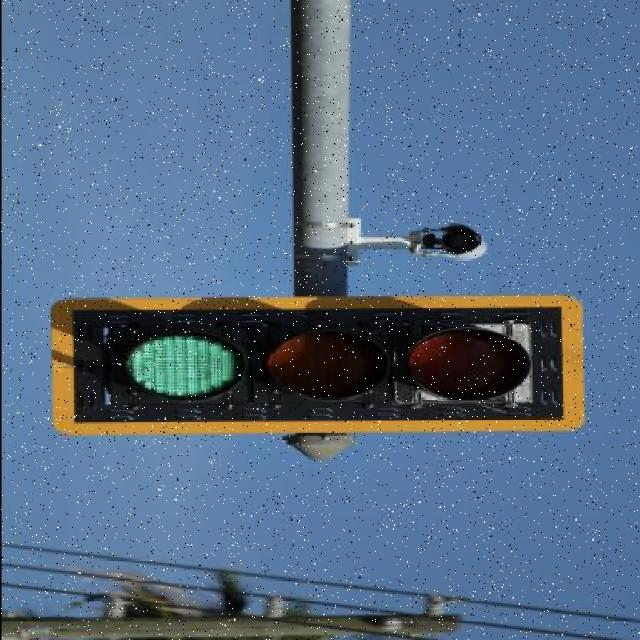green-light: (31, 286, 614, 468)
